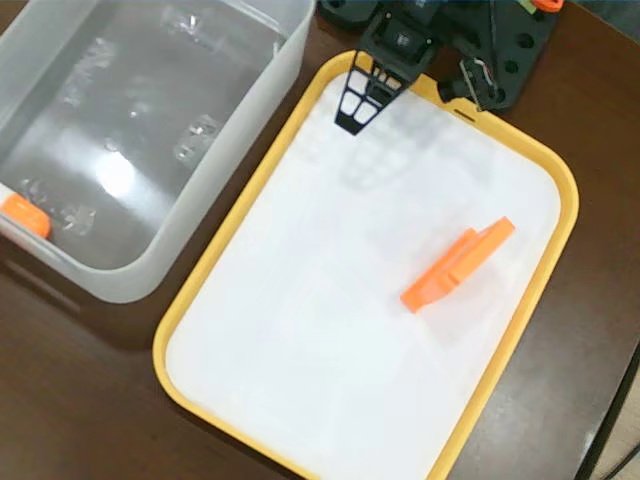pill: (1, 181, 52, 242)
